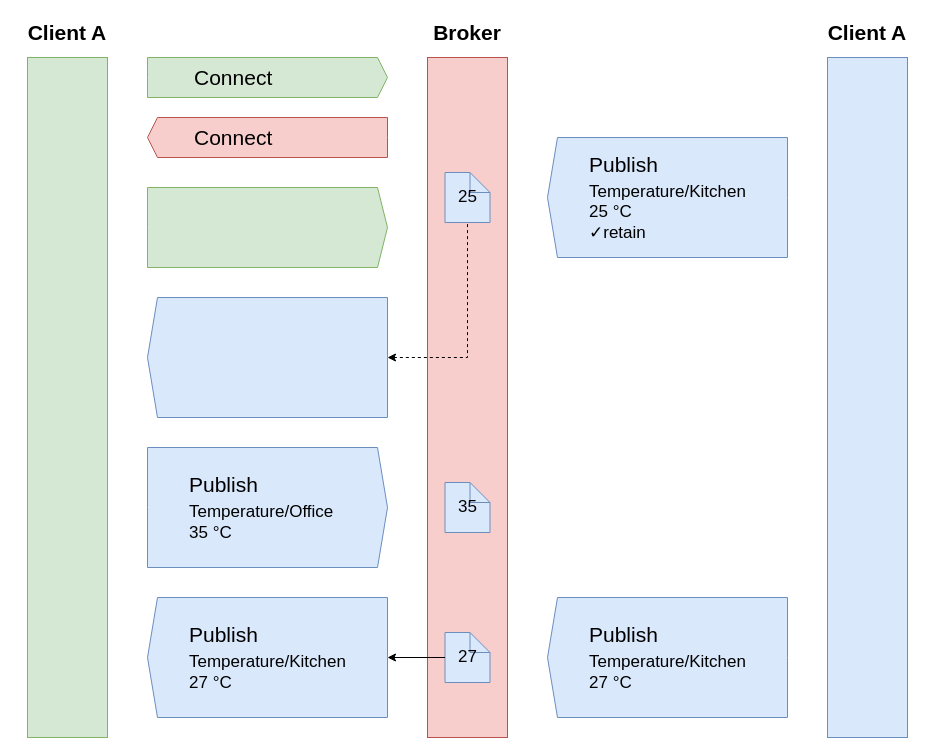
This 934x755 diagram has some shape labels left out. The shapes that lost their labels are listed below. From the top down, each one's box as (x1, y1, x2, y2) in pixels, then its label:
(146, 186, 388, 268): Subscribe Temperature/Room
(146, 296, 388, 418): Publish Temperature/Kitchen 25 ° C
